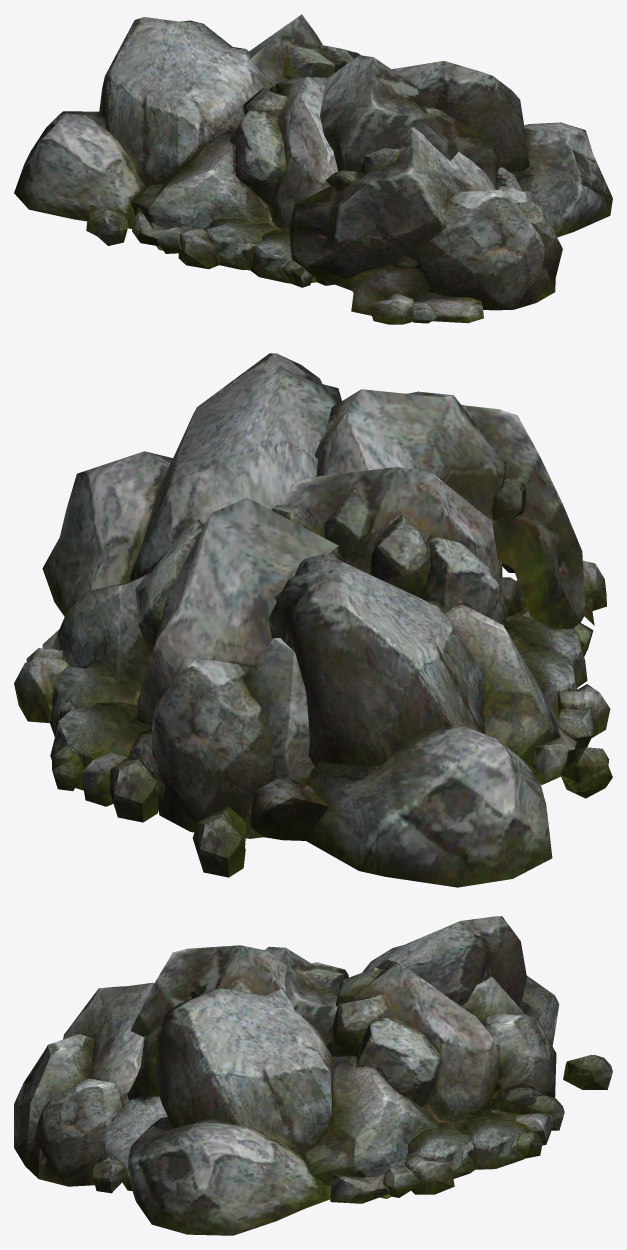
Rendered from dashitou01.FBX.
3 renders of one model, top to bottom at view 1: azimuth 30°, elevation 25°; view 2: azimuth 150°, elevation 25°; view 3: azimuth 270°, elevation 25°, orthographic. The views are drawn at different scales.
Parts seen in each view (by area): view 1: 对象001; view 2: 对象001; view 3: 对象001.
Boxes of the visible parts, left/top/right/bottom form: 对象001: left=14, top=14, right=612, bottom=324; 对象001: left=14, top=353, right=612, bottom=887; 对象001: left=14, top=916, right=612, bottom=1235.
Bounding box in the file's own units: 7.93 × 3.09 × 8.78.
Materials: 1 (1 with a texture image).
